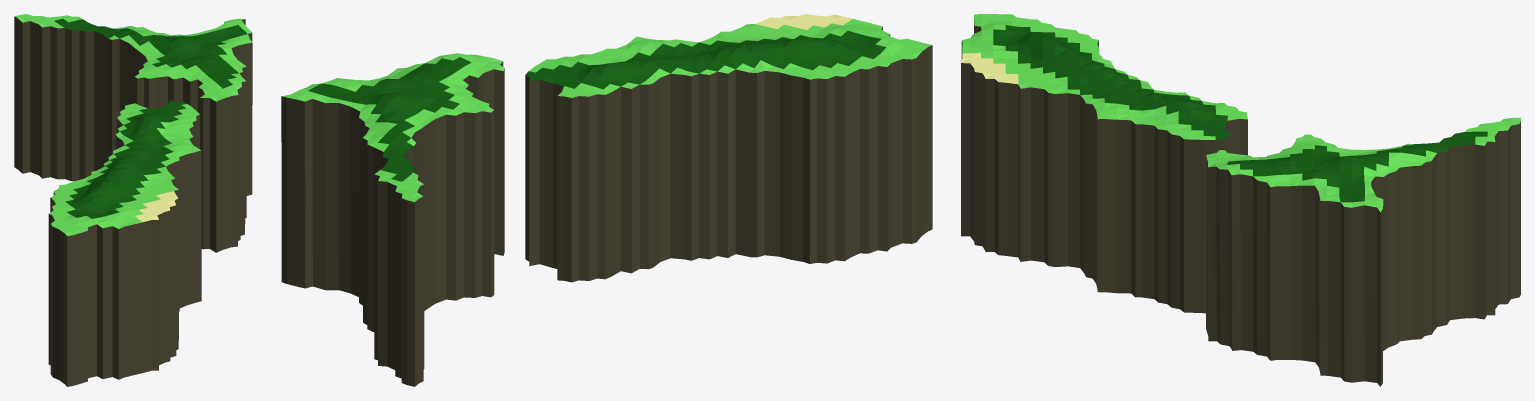
File: world_map_newzealand.fbx
3 views of the same model, side by side, from view 1: azimuth 30°, elevation 25°; view 2: azimuth 150°, elevation 25°; view 3: azimuth 270°, elevation 25° (orthographic). The views are drawn at different scales.
Visible parts, largest first — view 1: NewZealand; view 2: NewZealand; view 3: NewZealand.
Part boxes in pixels (box(x1,y1,x2,y2)): NewZealand: box(14, 14, 252, 386); NewZealand: box(281, 14, 932, 386); NewZealand: box(961, 14, 1520, 386).
Bounding box in the file's own units: 145 × 63.39 × 172.
